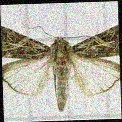Spodoptera litura: (2, 20, 120, 113)
